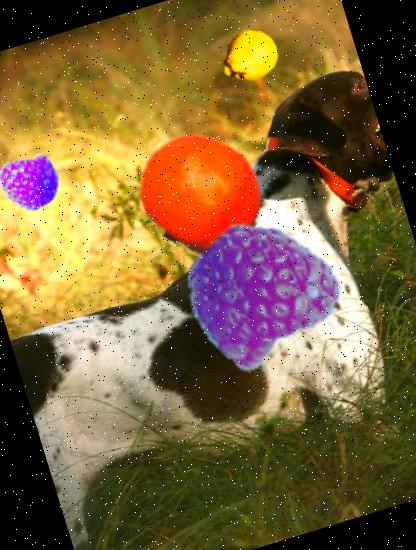Clementine: (122, 115, 280, 272)
Quince: (214, 20, 286, 92)
Raspberry: (170, 201, 349, 380), (0, 145, 67, 217)
